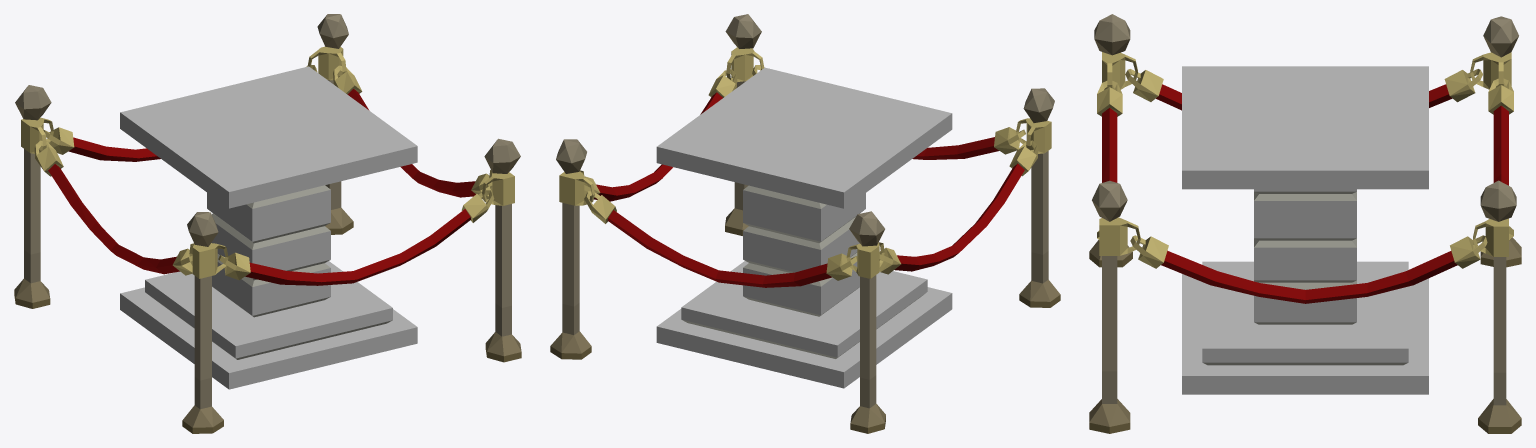
Rendered from pedestal.fbx.
3 views of the same model, side by side, from view 1: azimuth 30°, elevation 25°; view 2: azimuth 150°, elevation 25°; view 3: azimuth 270°, elevation 25° (orthographic). The views are drawn at different scales.
Visible parts, largest first — view 1: Trophy_pedestal_25351; view 2: Trophy_pedestal_25351; view 3: Trophy_pedestal_25351.
Part boxes in pixels (x1=…): Trophy_pedestal_25351: x1=14, y1=14, x2=521, y2=433; Trophy_pedestal_25351: x1=550, y1=14, x2=1060, y2=433; Trophy_pedestal_25351: x1=1089, y1=14, x2=1521, y2=433.
Bounding box in the file's own units: 16900 × 10300 × 16800.
